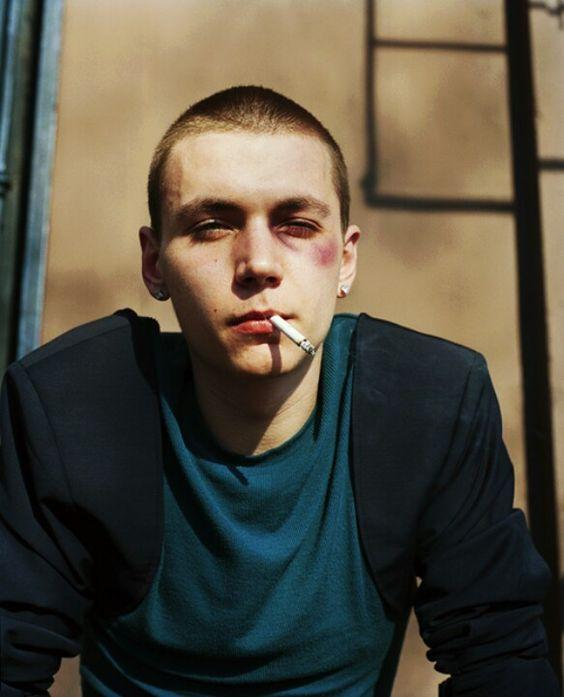cigarette: (267, 314, 317, 357)
